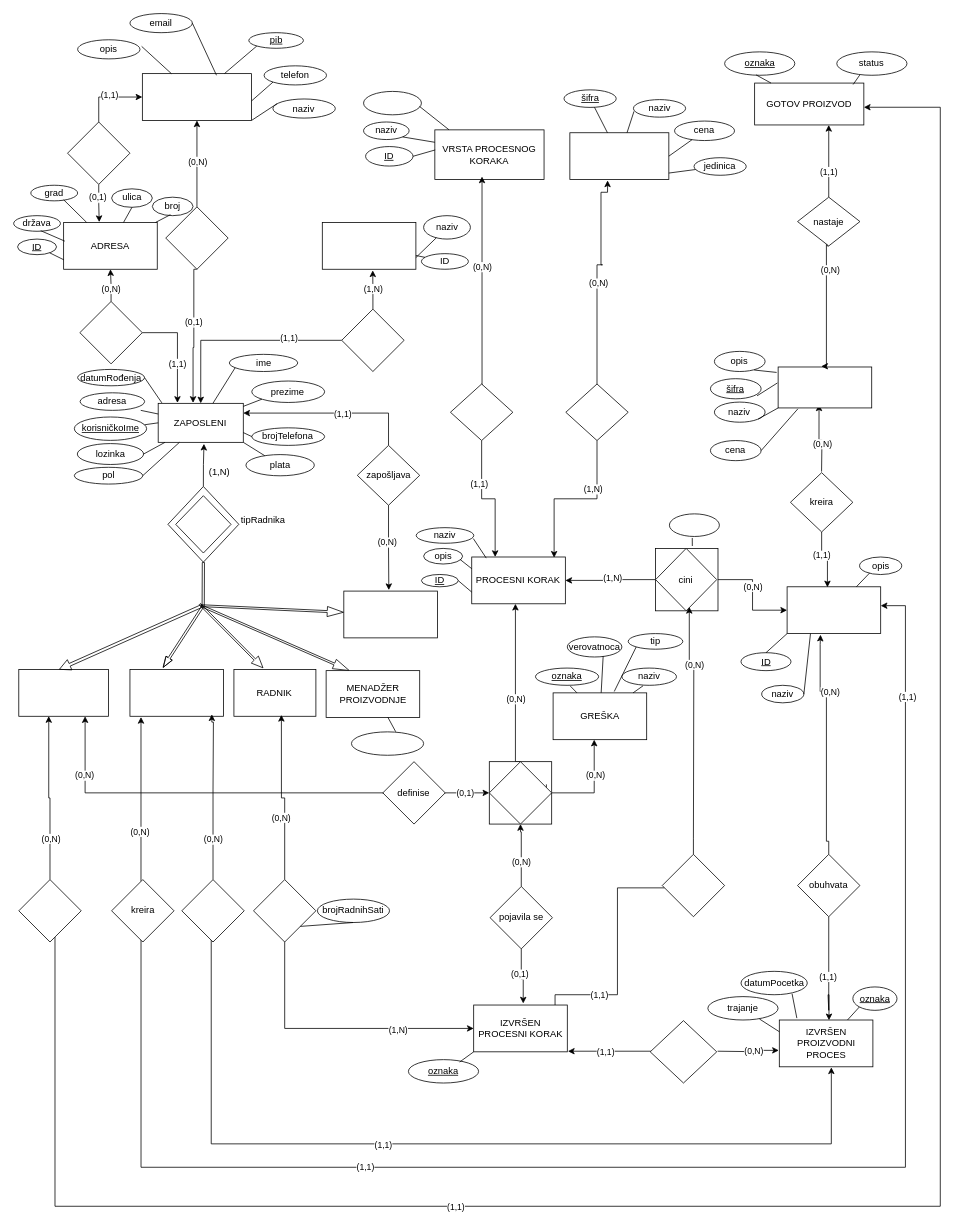
This 960x1227 diagram has some shape labels left out. Each missing label, with the box of its shape:
ADMINISTRATOR: (343, 590, 437, 638)
brojLicence: (351, 731, 424, 755)
brojRadnika: (363, 91, 421, 115)
GUMARA: (142, 73, 252, 120)
ima: (165, 206, 228, 269)
INŽENJER KVALITETA: (18, 669, 108, 716)
INŽENJER PROCESA: (129, 669, 224, 716)
IS-a: (175, 495, 231, 553)
javlja se: (489, 761, 552, 824)
je deo: (661, 854, 725, 917)
karakterise: (450, 383, 513, 441)
kontrolise: (181, 879, 244, 942)
MATERIJAL: (569, 132, 669, 180)
nalazi se: (67, 121, 130, 184)
poseduje: (341, 308, 404, 372)
PROIZVOD: (777, 366, 872, 408)
PROIZVODNI PROCES: (786, 586, 881, 634)
proverava kvalitet: (18, 879, 81, 942)
redniBroj: (669, 513, 719, 536)
sacinjava: (649, 1020, 717, 1083)
sadrzi: (565, 383, 628, 441)
ucestvuje: (253, 879, 316, 942)
ULOGA: (322, 222, 416, 269)
živi: (79, 301, 142, 364)
